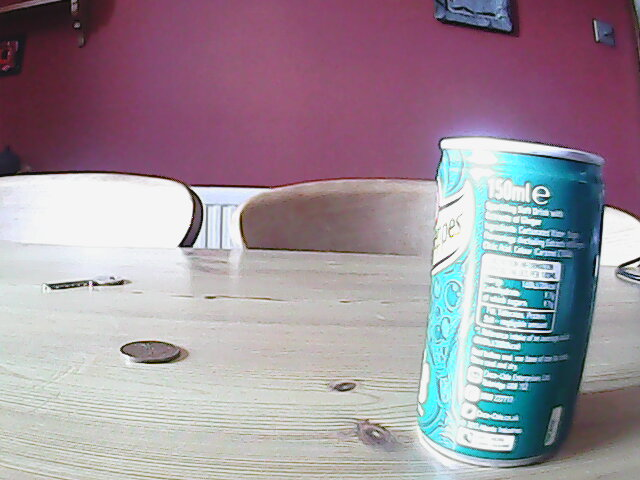Can: (414, 139, 608, 475)
Coin: (116, 338, 184, 365)
Key: (38, 273, 126, 294)
